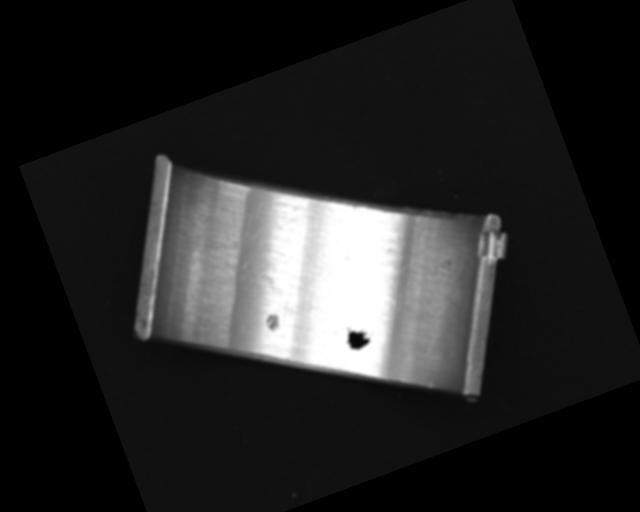blot: (342, 319, 379, 353)
bruise: (262, 310, 284, 334)
nick: (425, 375, 438, 390)
